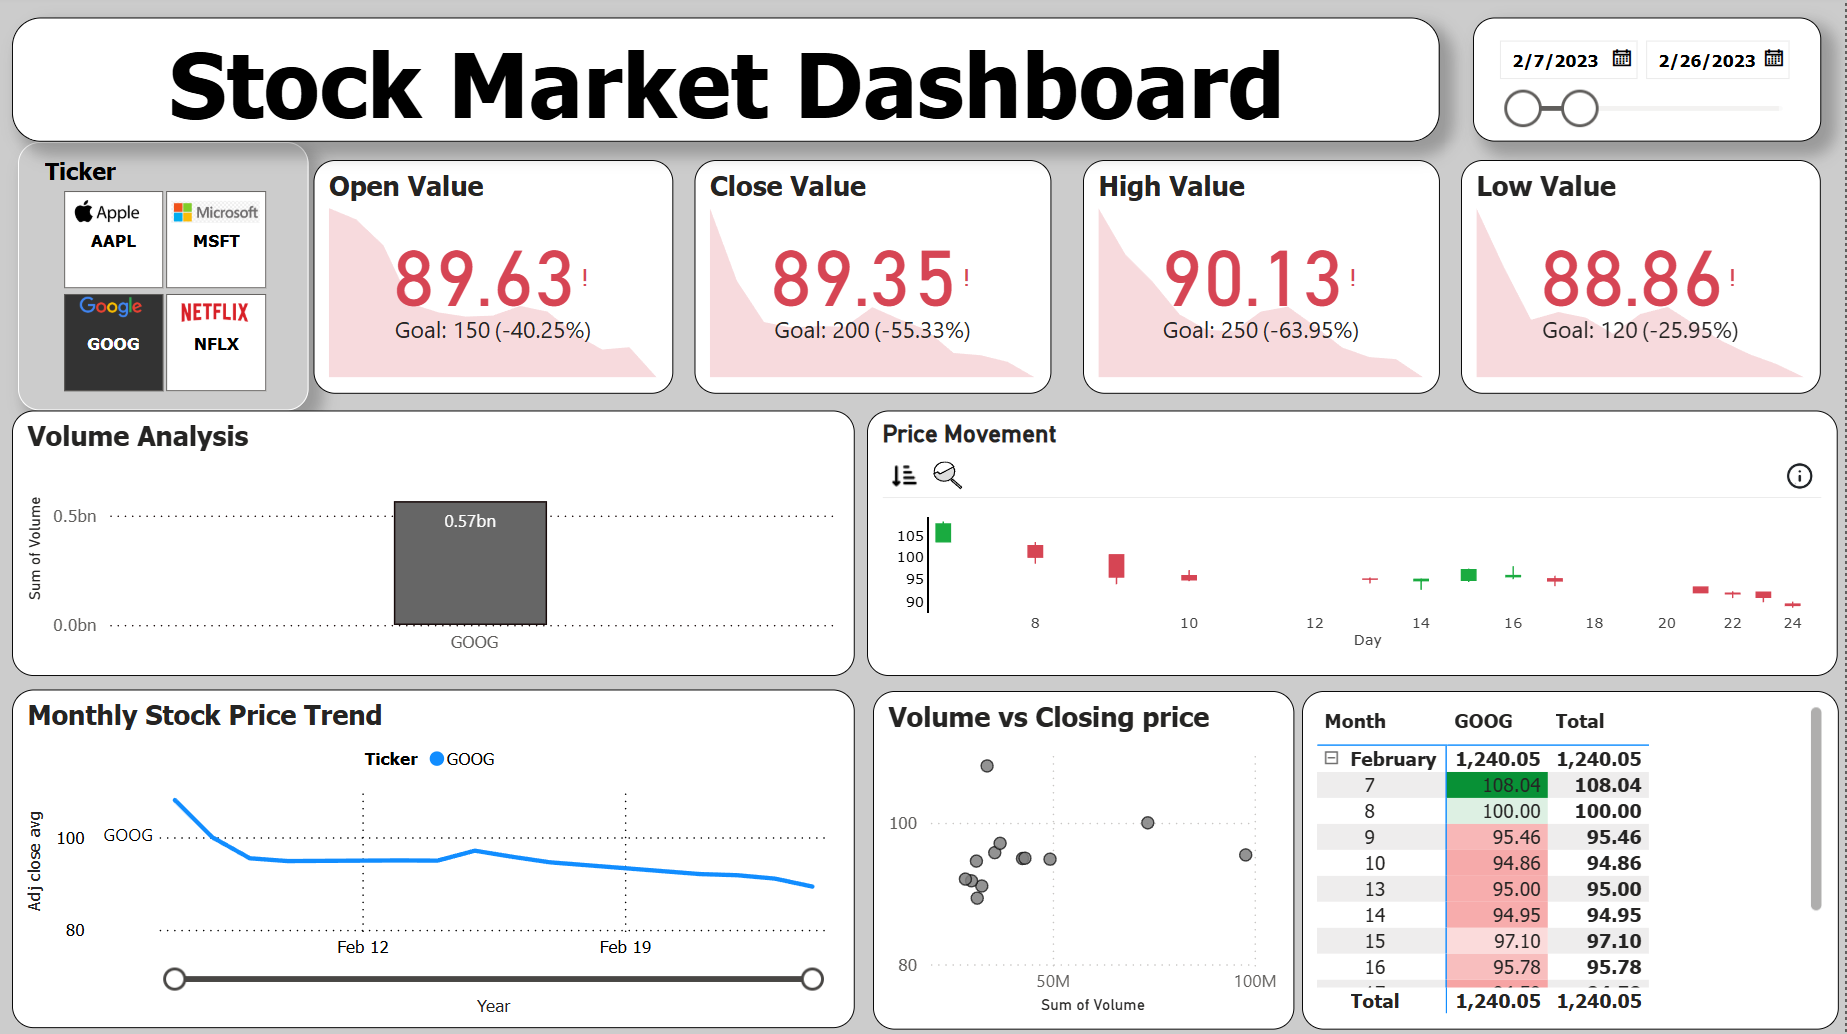

The dashboard page shown, as its layout file describes it:
{"tool":"powerbi","page":{"name":"Page 1","canvas":[1280,720],"ordinal":0},"visuals":[{"type":"lineChart","title":"Monthly Stock Price Trend ","fields":{"Category":["stocks (1).Date.Variation.Date Hierarchy.Year","stocks (1).Date.Variation.Date Hierarchy.Month","stocks (1).Date.Variation.Date Hierarchy.Day"],"Series":["stocks (1).Ticker"],"Y":["Avg(stocks (1).Adj Close)"]},"box":[10.4,481.3,584.2,234.9],"z":0},{"type":"slicer","fields":{"Values":["stocks (1).Ticker"]},"box":[14.6,101.9,201.7,186.1],"z":1000},{"type":"candlestick95C27C147643B5E840B1D29AC39783F7","title":"Price Movement","fields":{"col_1":["Sum(stocks (1).Open)"],"col_2":["Sum(stocks (1).High)"],"col_3":["Sum(stocks (1).Low)"],"col_4":["Sum(stocks (1).Close)"],"col_0":["stocks (1).Date.Variation.Date Hierarchy.Day"]},"box":[602.9,287.9,672.5,184],"z":2000},{"type":"kpi","title":"Open Value","fields":{"TrendLine":["stocks (1).Date"],"Goal":["stocks (1).Target Value"],"Indicator":["Avg(stocks (1).Open)"]},"box":[219.3,114.3,249.5,162.2],"z":3000},{"type":"clusteredColumnChart","title":"Volume Analysis","fields":{"Category":["stocks (1).Ticker"],"Y":["Sum(stocks (1).Volume)"]},"box":[10.4,287.9,584.2,184],"z":4000},{"type":"slicer","fields":{"Values":["stocks (1).Date"]},"box":[1022.8,15.6,241.2,86.3],"z":5000},{"type":"kpi","title":"Close Value","fields":{"TrendLine":["stocks (1).Date"],"Goal":["stocks (1).Fixed Target Close"],"Indicator":["Avg(stocks (1).Close)"]},"box":[483.4,114.3,247.4,162.2],"z":6000},{"type":"kpi","title":"High Value","fields":{"TrendLine":["stocks (1).Date"],"Goal":["stocks (1).Fixed Target High"],"Indicator":["Avg(stocks (1).High)"]},"box":[752.6,114.3,247.4,162.2],"z":7000},{"type":"kpi","title":"Low Value","fields":{"TrendLine":["stocks (1).Date"],"Goal":["stocks (1).Fixed Target Low"],"Indicator":["Avg(stocks (1).Low)"]},"box":[1014.5,114.3,249.5,162.2],"z":8000},{"type":"image","box":[115.4,132,71.7,36.4],"z":9000},{"type":"image","box":[41.6,132,69.6,35.3],"z":10000},{"type":"image","box":[35.3,203.7,87.3,24.9],"z":11000},{"type":"image","box":[122.7,203.7,56.1,32.2],"z":12000},{"type":"textbox","title":"Stock Market Dashboard","box":[10.4,15.6,989.6,86.3],"z":13000},{"type":"scatterChart","title":"Volume vs Closing price","fields":{"X":["Sum(stocks (1).Volume)"],"Y":["stocks (1).Close"]},"box":[607.1,482.3,292.1,234.9],"z":13001},{"type":"pivotTable","fields":{"Values":["Sum(stocks (1).Close)"],"Columns":["stocks (1).Ticker"],"Rows":["stocks (1).Date.Variation.Date Hierarchy.Month","stocks (1).Date.Variation.Date Hierarchy.Day"]},"box":[904.3,482.3,372.1,234.9],"z":13002}]}

Visuals, with their boxes in screenshot pixels (x1, y1, x2, y2), scaled from the page's 1280x720 canvas onto the 1847x1034 screenshot:
"Monthly Stock Price Trend " lineChart: Rect(15, 691, 858, 1029)
slicer - stocks (1).Ticker: Rect(21, 146, 312, 414)
"Price Movement" candlestick95C27C147643B5E840B1D29AC39783F7: Rect(870, 413, 1840, 678)
"Open Value" kpi: Rect(316, 164, 676, 397)
"Volume Analysis" clusteredColumnChart: Rect(15, 413, 858, 678)
slicer - stocks (1).Date: Rect(1476, 22, 1824, 146)
"Close Value" kpi: Rect(698, 164, 1055, 397)
"High Value" kpi: Rect(1086, 164, 1443, 397)
"Low Value" kpi: Rect(1464, 164, 1824, 397)
image: Rect(167, 190, 270, 242)
image: Rect(60, 190, 160, 240)
image: Rect(51, 293, 177, 328)
image: Rect(177, 293, 258, 339)
"Stock Market Dashboard" textbox: Rect(15, 22, 1443, 146)
"Volume vs Closing price" scatterChart: Rect(876, 693, 1298, 1030)
pivotTable - Sum(stocks (1).Close) x stocks (1).Ticker: Rect(1305, 693, 1842, 1030)
